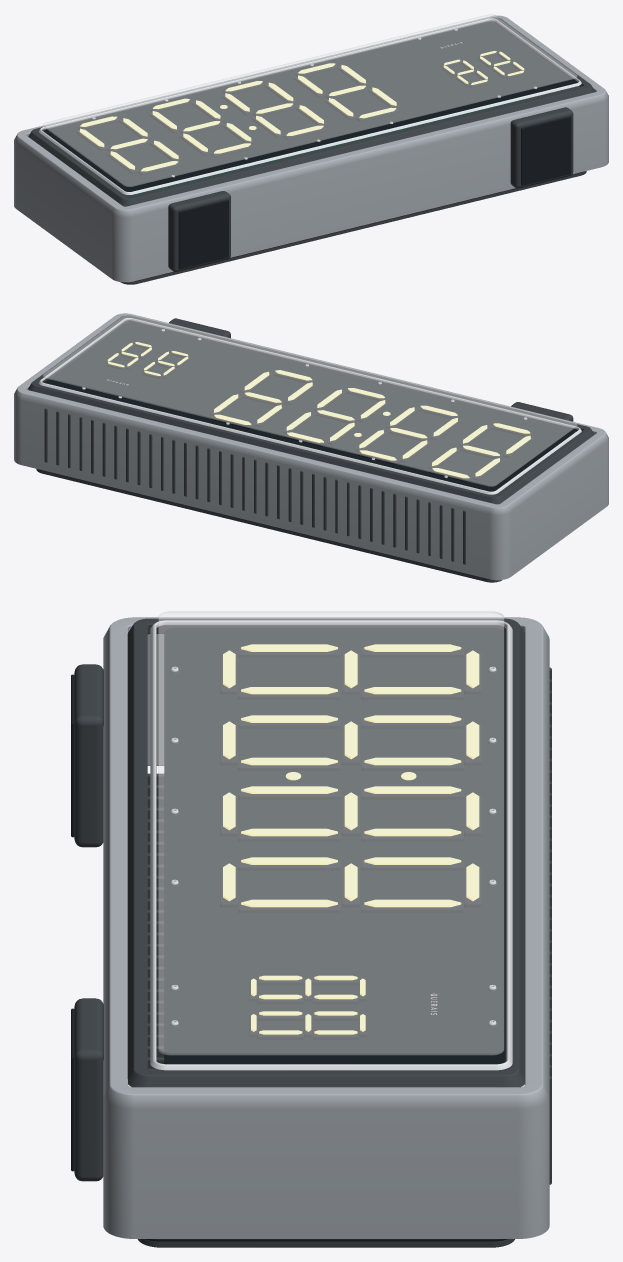
The model's file is signal.glb.
The picture shows the model from 3 angles, top to bottom: view 1: azimuth 30°, elevation 25°; view 2: azimuth 150°, elevation 25°; view 3: azimuth 270°, elevation 25°; orthographic projection. The views are drawn at different scales.
Visible parts, largest first — view 1: Signal extrusion, Smoked optical crystal, Segment cell substrate, Anodized front shroud, Optical polished bevel, Signal isolator, Signal isolator.001, Removable service panel.002, Signal pedestal.001, Signal pedestal, Signal ceramic PCB; view 2: Signal extrusion, Smoked optical crystal, Segment cell substrate, Anodized front shroud, Optical polished bevel, Removable service panel.002, Rear perimeter seal.002, Signal pedestal.001, Signal pedestal; view 3: Smoked optical crystal, Segment cell substrate, Signal extrusion, Anodized front shroud, Optical polished bevel, Signal pedestal.001, Signal pedestal, Removable service panel.002, Rear perimeter seal.002.
Part boxes in pixels (<box>): Signal extrusion: <box>14,15,608,282</box>; Smoked optical crystal: <box>43,14,576,186</box>; Segment cell substrate: <box>44,22,574,191</box>; Anodized front shroud: <box>28,17,594,206</box>; Optical polished bevel: <box>38,18,581,194</box>; Signal isolator: <box>178,200,228,269</box>; Signal isolator.001: <box>521,116,571,185</box>; Removable service panel.002: <box>120,171,586,284</box>; Signal pedestal.001: <box>510,107,573,188</box>; Signal pedestal: <box>168,191,230,271</box>; Signal ceramic PCB: <box>125,98,528,196</box>; Signal extrusion: <box>14,313,608,580</box>; Smoked optical crystal: <box>43,314,576,486</box>; Segment cell substrate: <box>44,322,574,491</box>; Anodized front shroud: <box>28,315,594,504</box>; Optical polished bevel: <box>38,318,581,494</box>; Removable service panel.002: <box>36,469,501,582</box>; Rear perimeter seal.002: <box>39,469,488,579</box>; Signal pedestal.001: <box>169,318,230,338</box>; Signal pedestal: <box>511,402,573,421</box>; Smoked optical crystal: <box>158,611,503,1054</box>; Segment cell substrate: <box>164,627,504,1064</box>; Signal extrusion: <box>103,617,549,1238</box>; Anodized front shroud: <box>127,618,524,1087</box>; Optical polished bevel: <box>150,620,512,1070</box>; Signal pedestal.001: <box>74,998,103,1181</box>; Signal pedestal: <box>74,664,103,847</box>; Removable service panel.002: <box>137,1239,514,1247</box>; Rear perimeter seal.002: <box>145,1239,507,1241</box>.
Bounding box in the file's own units: 6.94 × 1.32 × 2.92.
